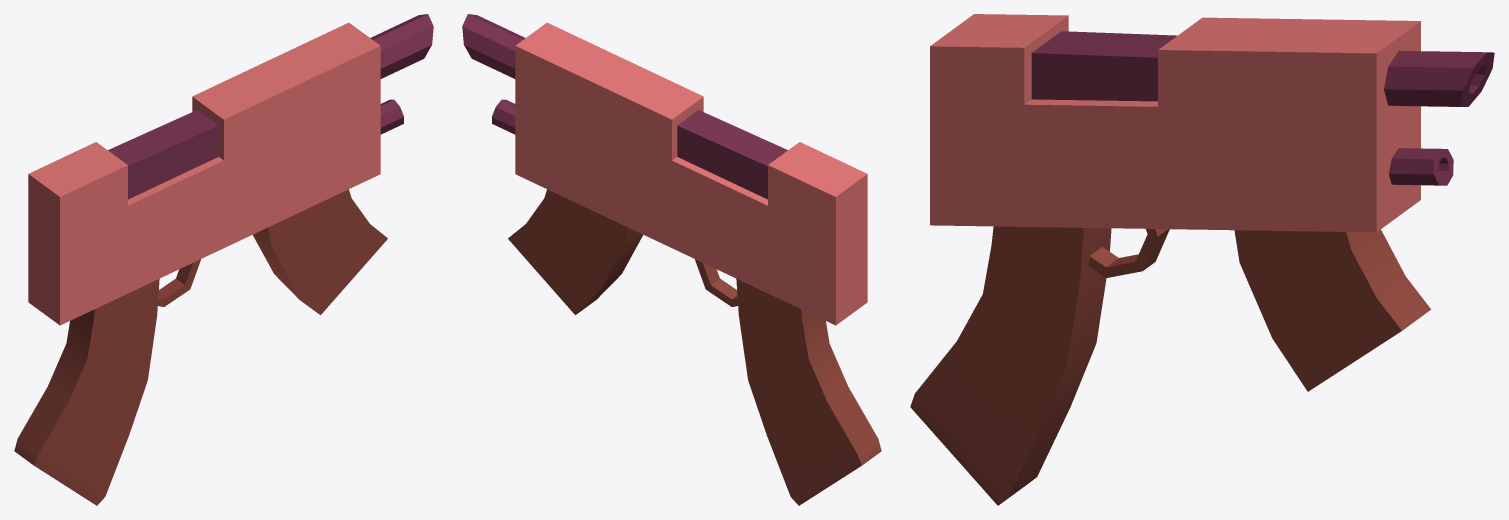
File: Blaster3.fbx
3 views of the same model, side by side, from view 1: azimuth 30°, elevation 25°; view 2: azimuth 150°, elevation 25°; view 3: azimuth 330°, elevation 25° (orthographic). The views are drawn at different scales.
Visible parts, largest first — view 1: pCube7, pCube8, pCube9, pCube10, pPipe8, pPipe7, pPipe9; view 2: pCube7, pCube8, pCube9, pCube10, pPipe8, pPipe7, pPipe9; view 3: pCube7, pCube8, pCube9, pCube10, pPipe8, pPipe9, pPipe7.
Boxes of the visible parts, <box> form: pCube7: <box>28,22,380,325</box>; pCube8: <box>14,279,159,505</box>; pCube9: <box>253,189,387,314</box>; pCube10: <box>108,110,218,199</box>; pPipe8: <box>370,14,433,78</box>; pPipe7: <box>158,259,200,306</box>; pPipe9: <box>380,99,403,134</box>; pCube7: <box>515,22,867,325</box>; pCube8: <box>736,279,881,505</box>; pCube9: <box>508,189,642,314</box>; pCube10: <box>677,110,787,199</box>; pPipe8: <box>462,14,525,78</box>; pPipe7: <box>695,259,737,306</box>; pPipe9: <box>492,99,515,134</box>; pCube7: <box>930,14,1420,232</box>; pCube8: <box>910,226,1111,505</box>; pCube9: <box>1234,229,1430,391</box>; pCube10: <box>1031,31,1176,101</box>; pPipe8: <box>1384,51,1494,106</box>; pPipe9: <box>1389,148,1453,185</box>; pPipe7: <box>1089,229,1169,277</box>.
Bounding box in the file's own units: 2.63 × 2.5 × 0.3584.
